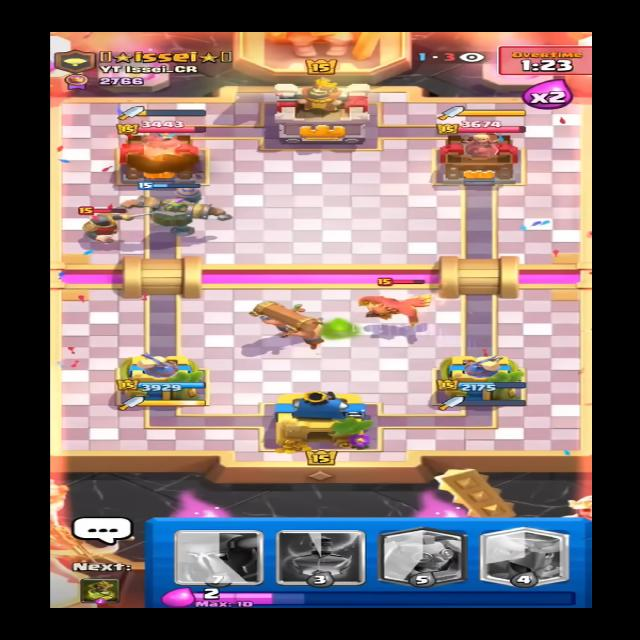knight: (75, 199, 135, 247)
phoenix: (341, 276, 451, 326)
